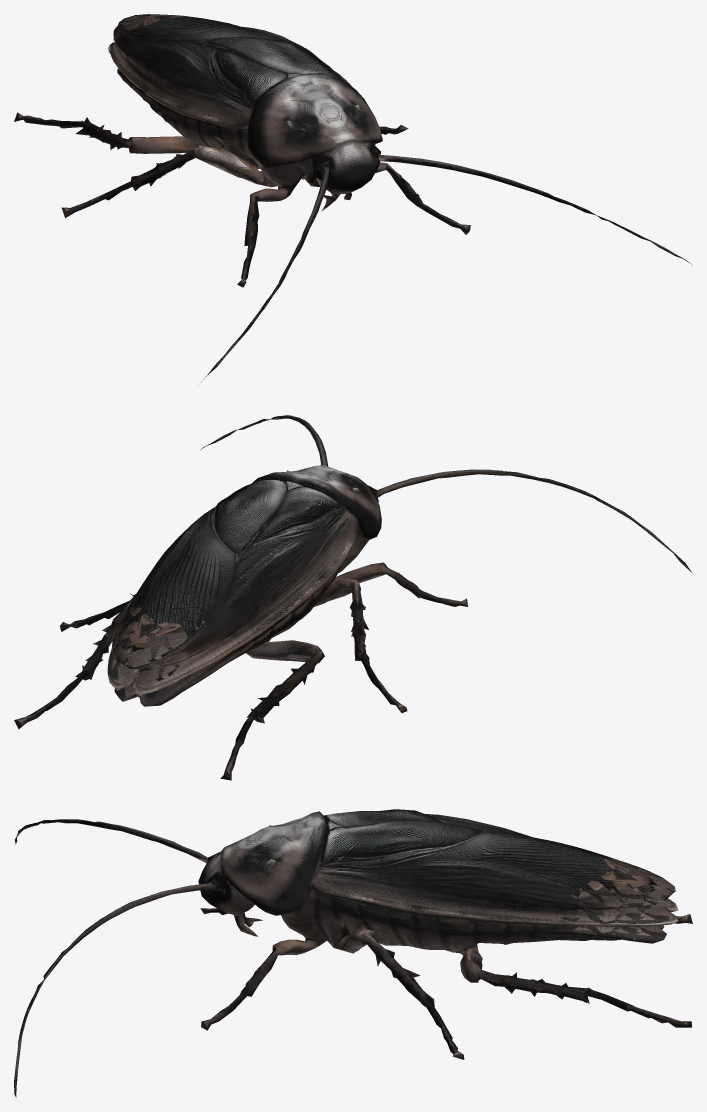
File: Meshy_AI_bug_0413014342_texture.fbx
3 renders of one model, top to bottom at view 1: azimuth 30°, elevation 25°; view 2: azimuth 150°, elevation 25°; view 3: azimuth 270°, elevation 25°, orthographic. The views are drawn at different scales.
Visible parts, largest first — view 1: Mesh1.0; view 2: Mesh1.0; view 3: Mesh1.0.
Boxes of the visible parts, x1,y1,x2,y2 form: Mesh1.0: [14, 14, 692, 382]; Mesh1.0: [14, 415, 691, 780]; Mesh1.0: [14, 809, 692, 1097].
Size of the model in its own units: 168 by 47.96 by 191.
Materials: 1 (1 with a texture image).
